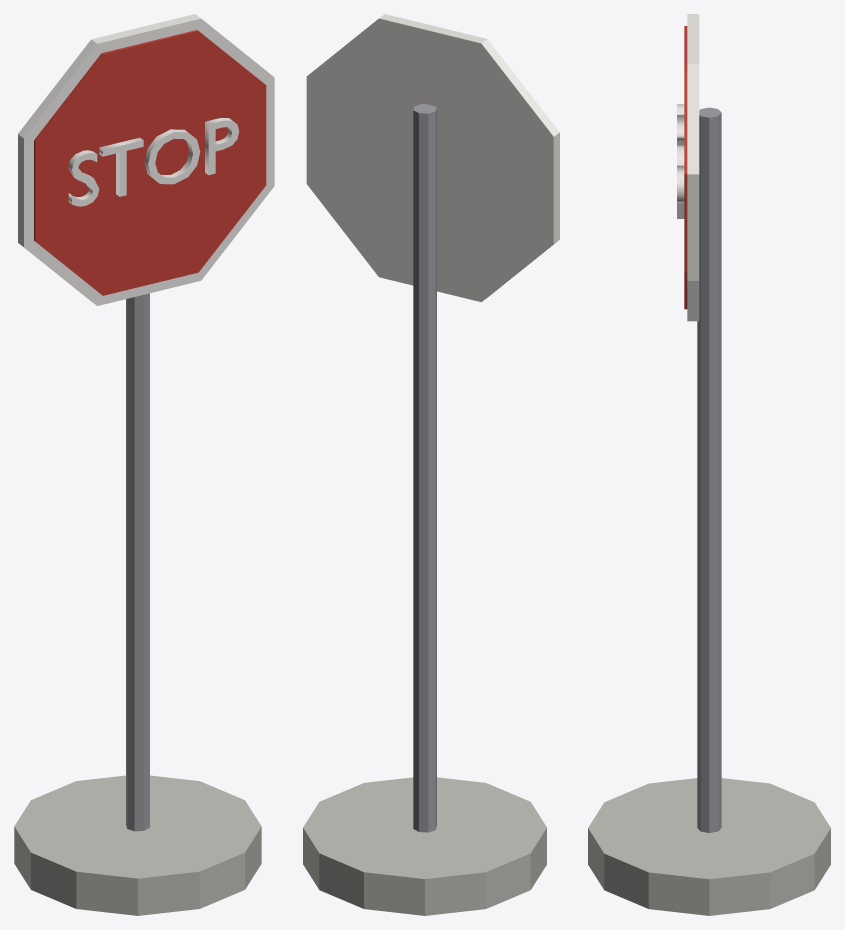
The model's file is stop_sign.glb.
3 views of the same model, side by side, from view 1: azimuth 30°, elevation 25°; view 2: azimuth 150°, elevation 25°; view 3: azimuth 270°, elevation 25° (orthographic).
Visible parts, largest first — view 1: stop_sign; view 2: stop_sign; view 3: stop_sign.
Boxes of the visible parts, x1,y1,x2,y2 form: stop_sign: [14, 14, 274, 915]; stop_sign: [303, 14, 559, 915]; stop_sign: [588, 14, 830, 915].
Size of the model in its own units: 0.7021 by 2.25 by 0.6.
